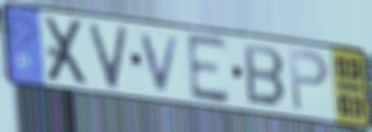B: (242, 41, 289, 110)
E: (184, 31, 232, 107)
P: (286, 46, 332, 115)
V: (86, 21, 130, 92), (138, 31, 184, 95)
X: (42, 15, 91, 87)
